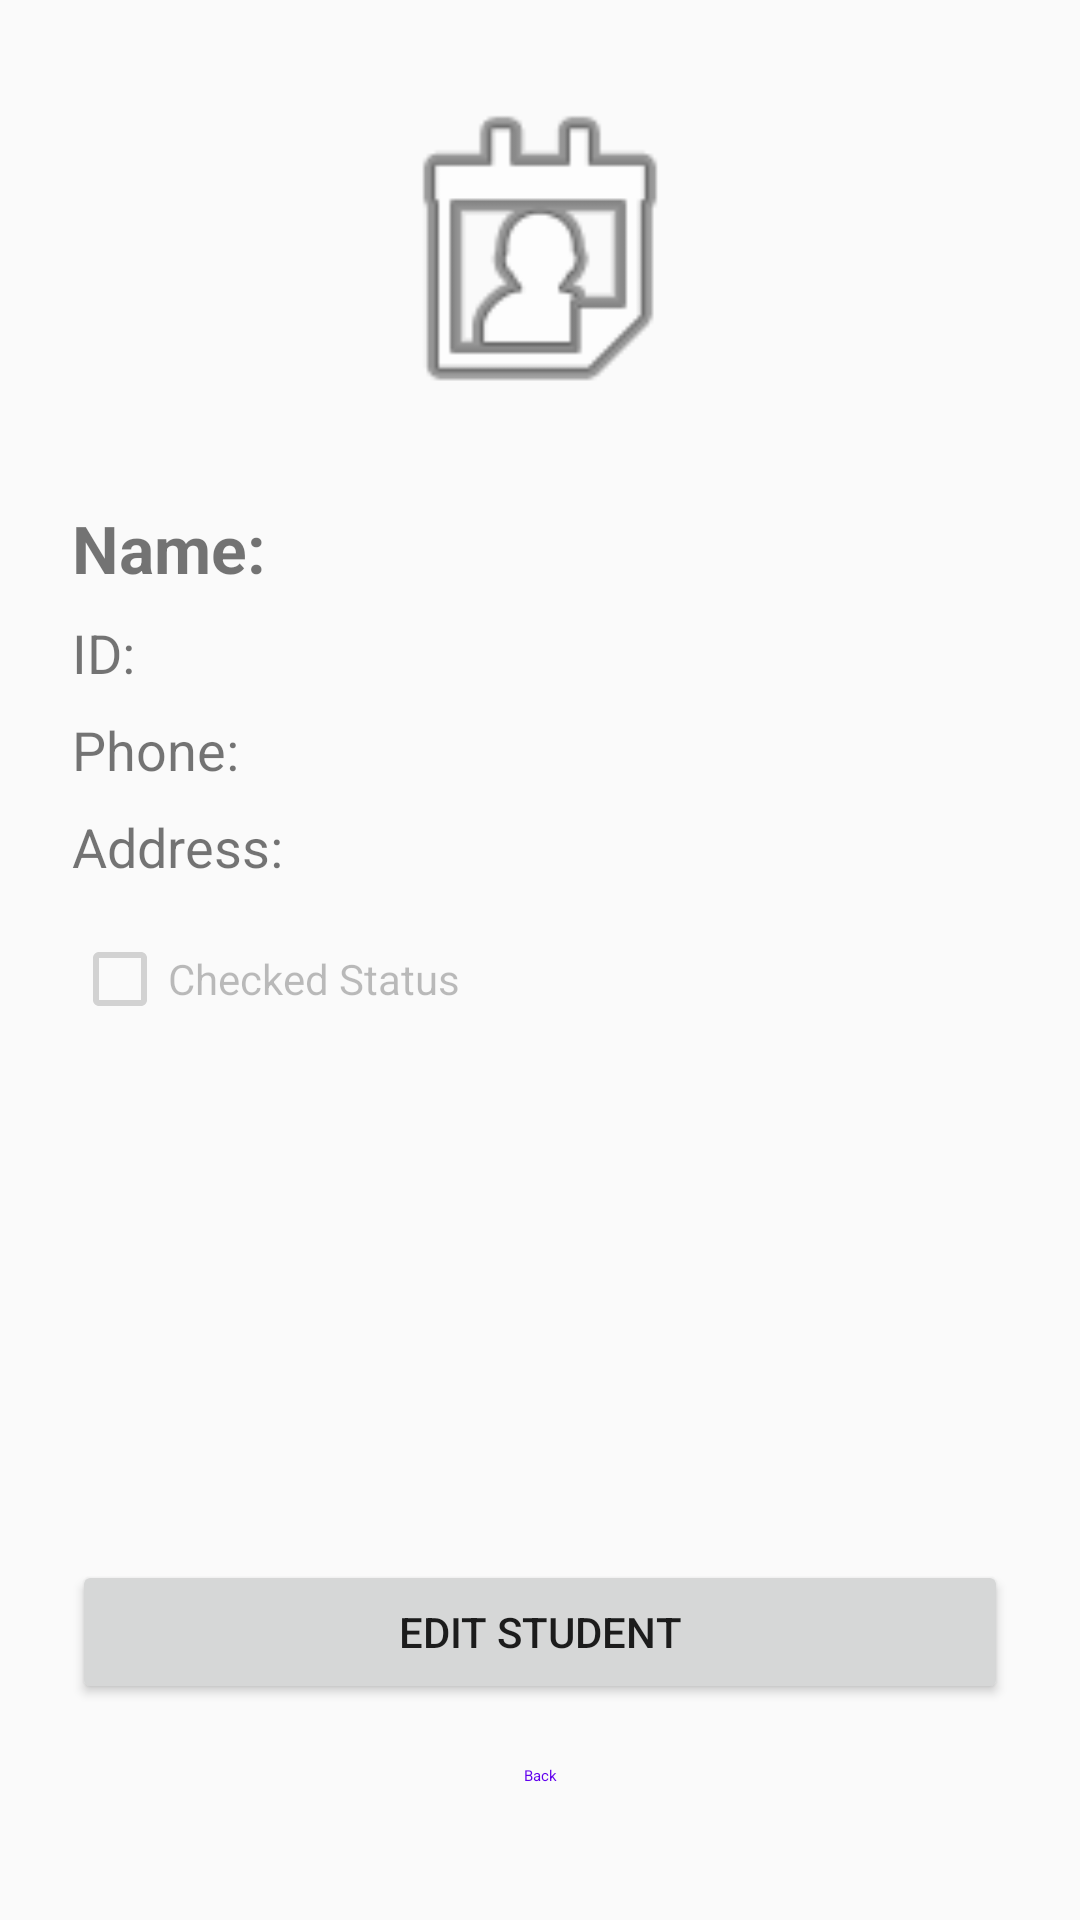

Where to tap for icons on this 1080 x 1920 app screen, as [x,y]:
calendar: [540,248]
